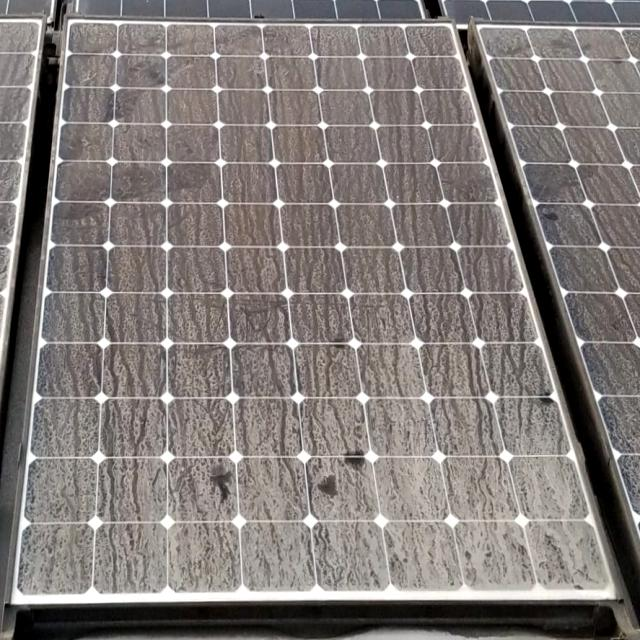dust: (294, 398, 564, 586), (47, 389, 278, 585), (294, 177, 488, 383), (83, 176, 276, 375), (524, 30, 640, 258), (85, 27, 278, 139), (294, 34, 454, 150)
